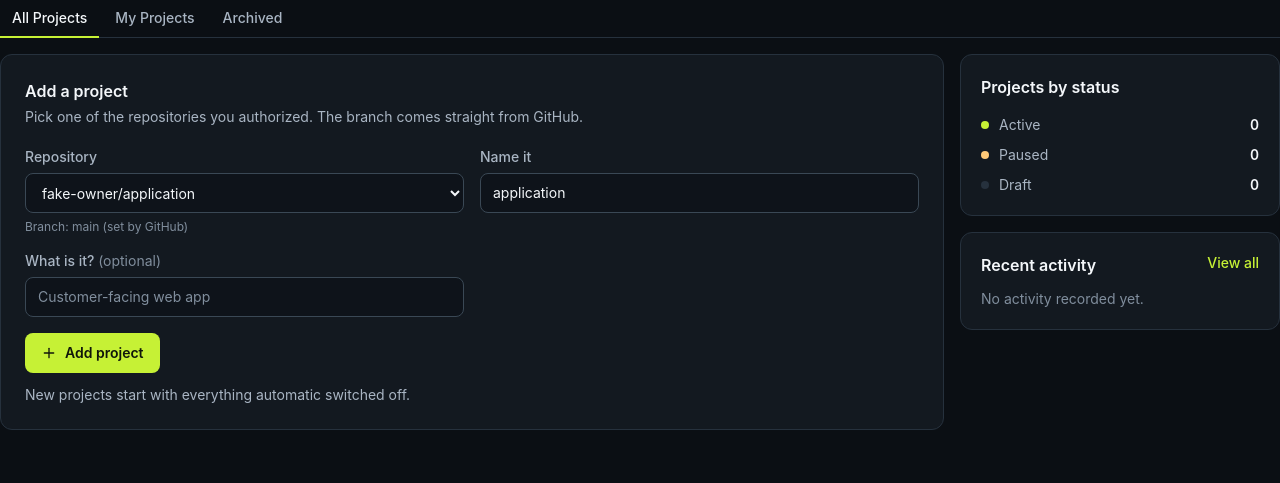
Test: ProjectsConsole add-project form › keeps the failure on screen instead of reporting a project that was not created
expect the field labelled "Name it" holds "application": met, box x1=480 y1=173 x2=919 y2=213
Step 1. Click the button "Add project" → (92, 353), box x1=25 y1=333 x2=160 y2=373
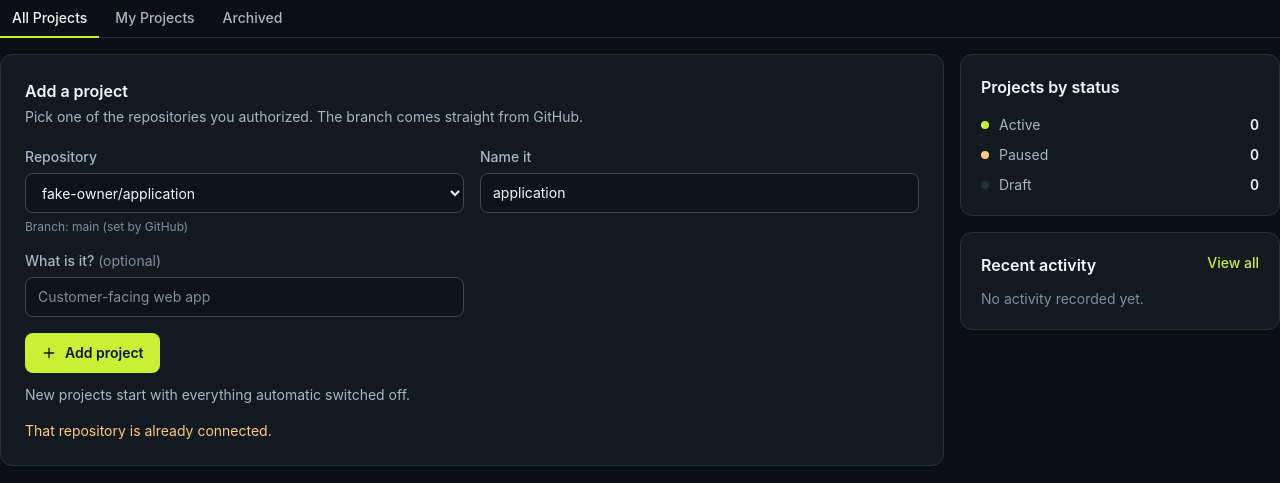
expect the text "That repository is already connected." is shown: met, box x1=25 y1=422 x2=272 y2=439
